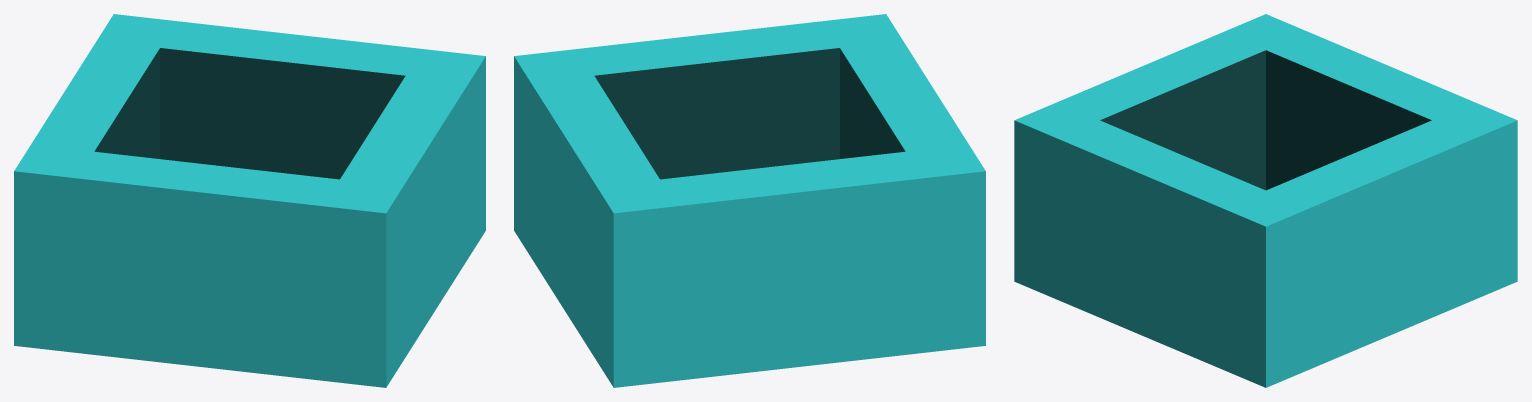
Rendered from extrudedCube.obj.
3 views of the same model, side by side, from view 1: azimuth 30°, elevation 25°; view 2: azimuth 150°, elevation 25°; view 3: azimuth 270°, elevation 25° (orthographic). The views are drawn at different scales.
Visible parts, largest first — view 1: Cube; view 2: Cube; view 3: Cube.
Boxes of the visible parts, x1,y1,x2,y2 form: Cube: (14,14,485,387); Cube: (514,14,985,387); Cube: (1014,14,1517,387).
Bounding box in the file's own units: 8.49 × 3 × 8.49.
